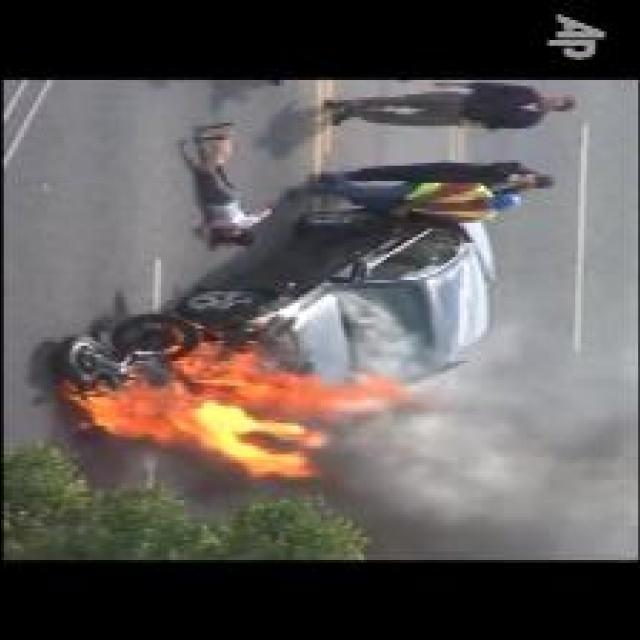Fire: (68, 344, 422, 478)
